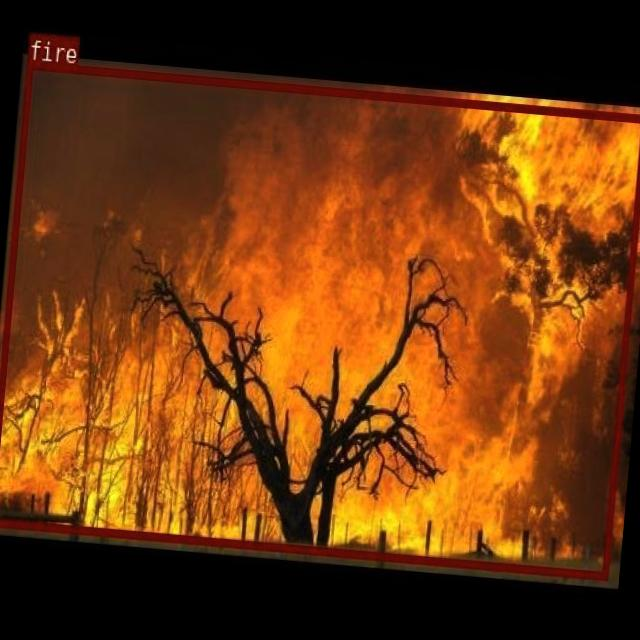fire: (0, 59, 640, 578)
